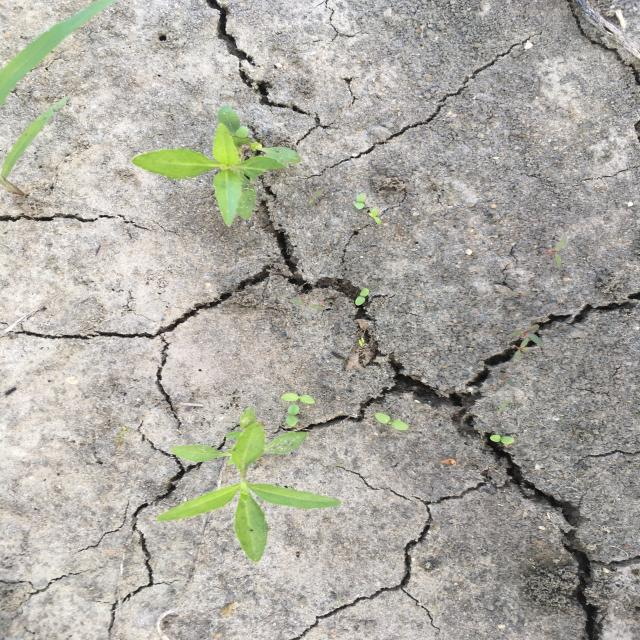Eclipta: (155, 402, 344, 564), (130, 104, 302, 228)
